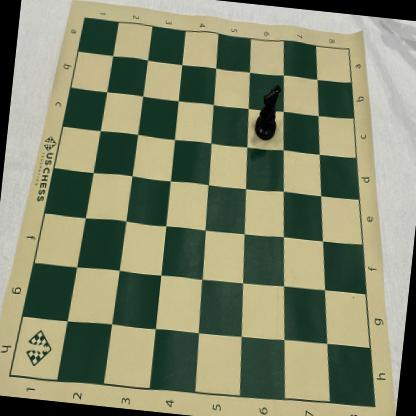knight: (253, 82, 282, 141)
